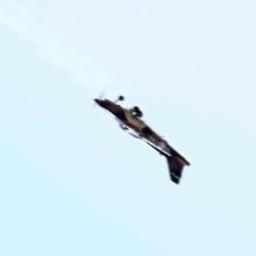Airplane: (94, 96, 191, 186)
